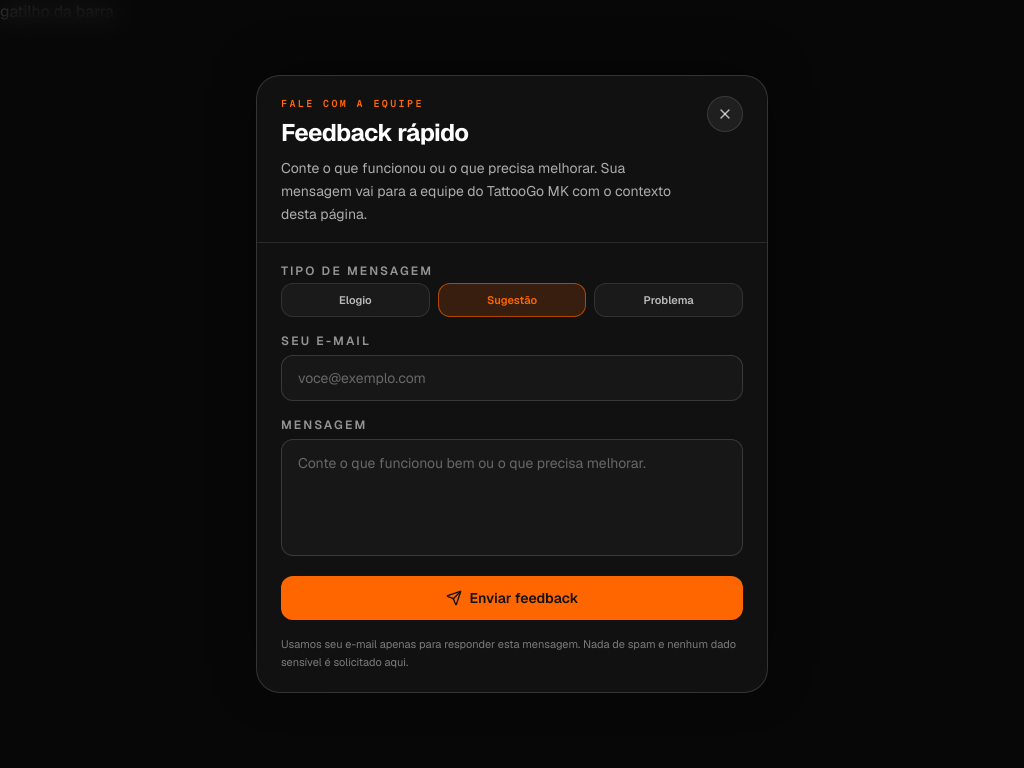
Test: TopBarActionSheet › formulário de feedback envia de verdade e confirma
This screenshot has width=1024, height=768.
(page scrolled)
Type "cliente@mk.com" into the field labelled "Seu e-mail" at (512, 378), box [281, 355, 743, 401]
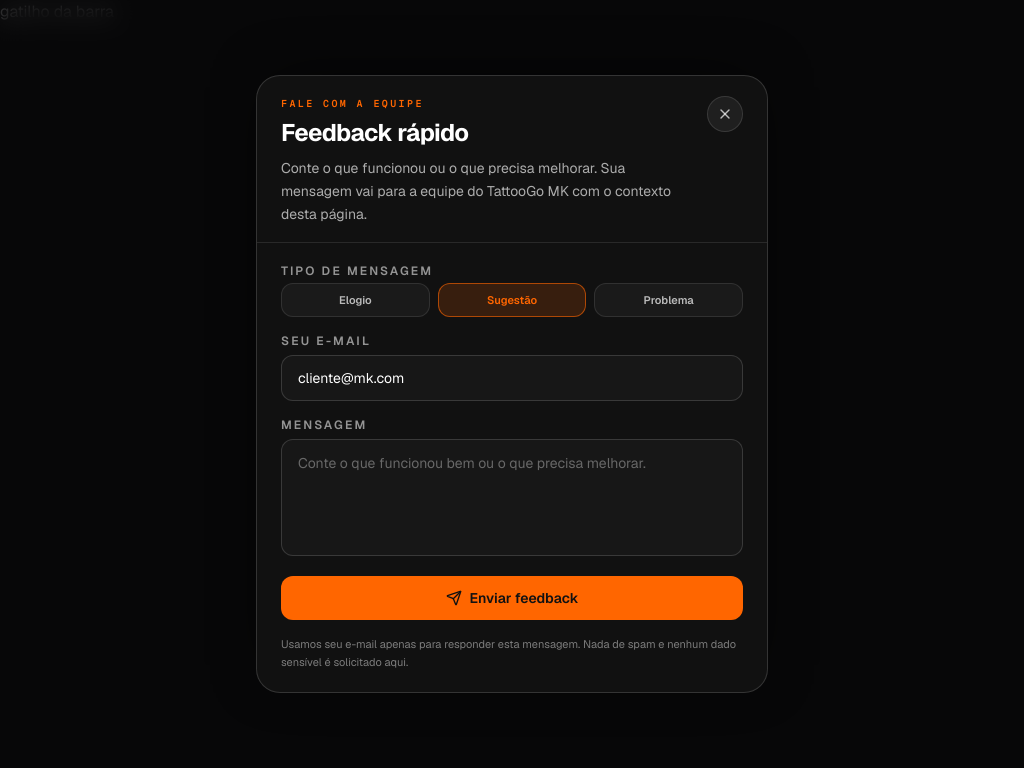
Type "O mapa carregou rápido e o orçamento chegou claro." into the text box labelled "Mensagem" at (512, 498), box [281, 439, 743, 556]
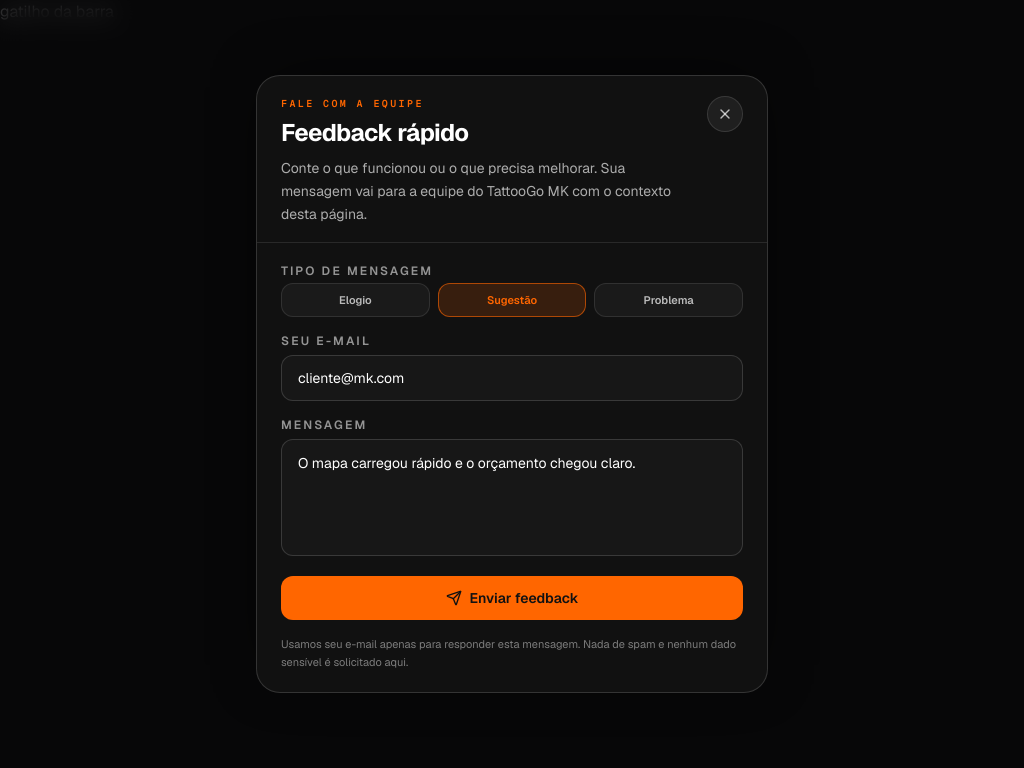
Click the button "Enviar feedback" at (512, 598), box [281, 576, 743, 620]
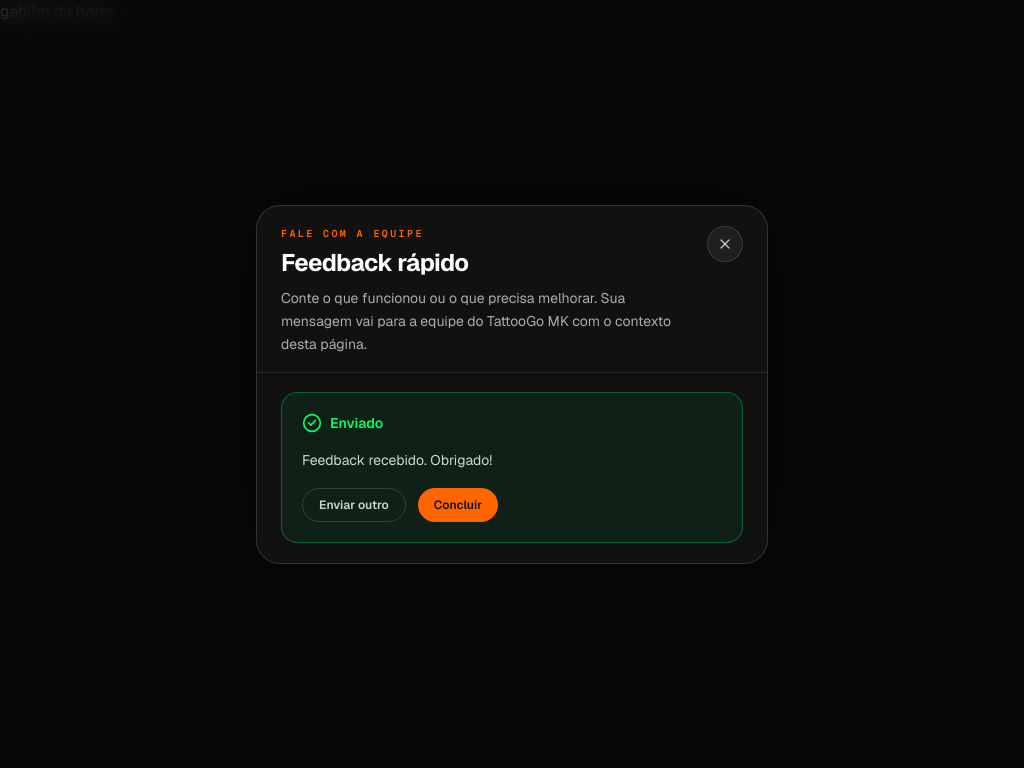
Now the text "Enviado" is shown, box [302, 413, 383, 433]
Now the message reads "Feedback recebido. Obrigado!", box [302, 451, 492, 469]
